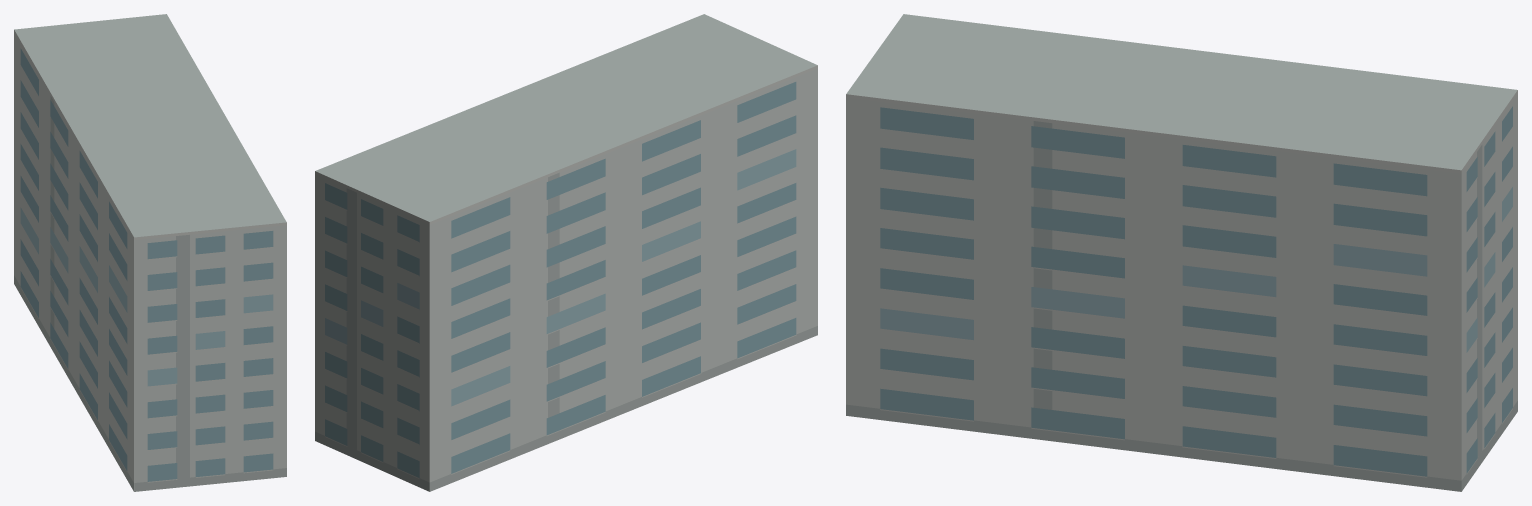
Rendered from survey-upis-32868512.glb.
3 views of the same model, side by side, from view 1: azimuth 30°, elevation 25°; view 2: azimuth 150°, elevation 25°; view 3: azimuth 270°, elevation 25° (orthographic). The views are drawn at different scales.
Parts seen in each view (by area): view 1: survey-upis-32868512.tmp; view 2: survey-upis-32868512.tmp; view 3: survey-upis-32868512.tmp.
Boxes of the visible parts, x1,y1,x2,y2 form: survey-upis-32868512.tmp: (14, 14, 286, 491); survey-upis-32868512.tmp: (315, 14, 817, 491); survey-upis-32868512.tmp: (846, 14, 1517, 491).
Bounding box in the file's own units: 23.04 × 22.1 × 41.85.
